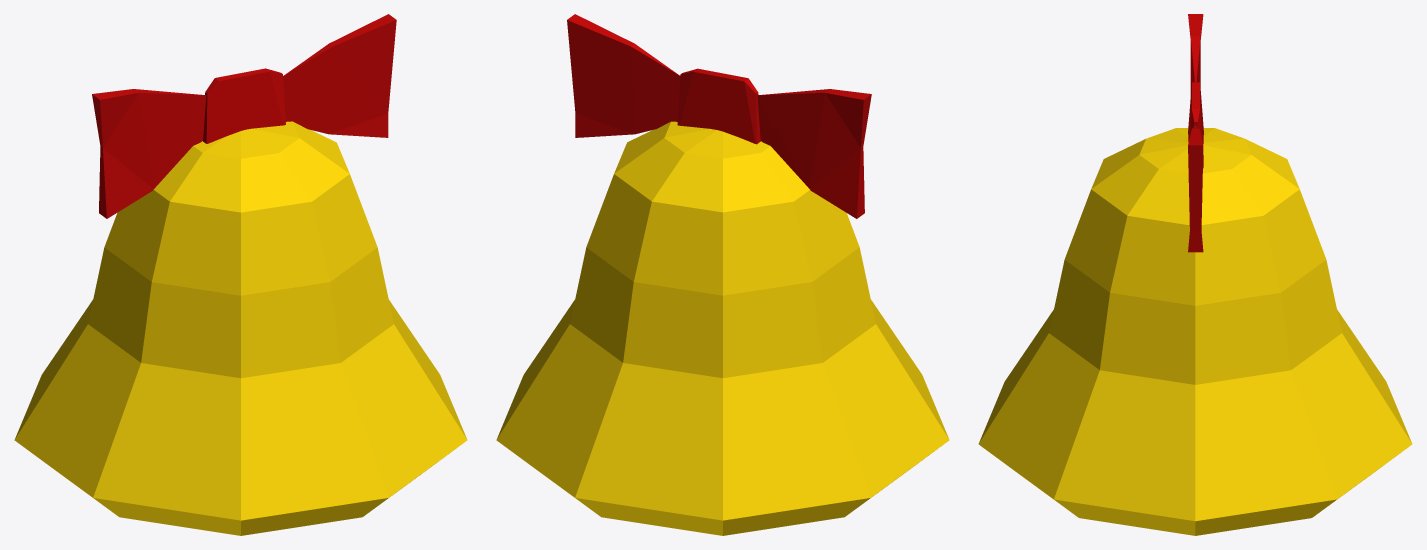
Rendered from Objet1_04.glb.
3 renders of one model, left to right at view 1: azimuth 30°, elevation 25°; view 2: azimuth 150°, elevation 25°; view 3: azimuth 270°, elevation 25°, orthographic. The views are drawn at different scales.
Visible parts, largest first — view 1: Bell; view 2: Bell; view 3: Bell.
Boxes of the visible parts, left/top/right/bottom form: Bell: left=14, top=14, right=467, bottom=535; Bell: left=496, top=14, right=949, bottom=535; Bell: left=978, top=14, right=1412, bottom=535.
Size of the model in its own units: 23.05 by 27.22 by 23.4.
1 material, 1 textured.
